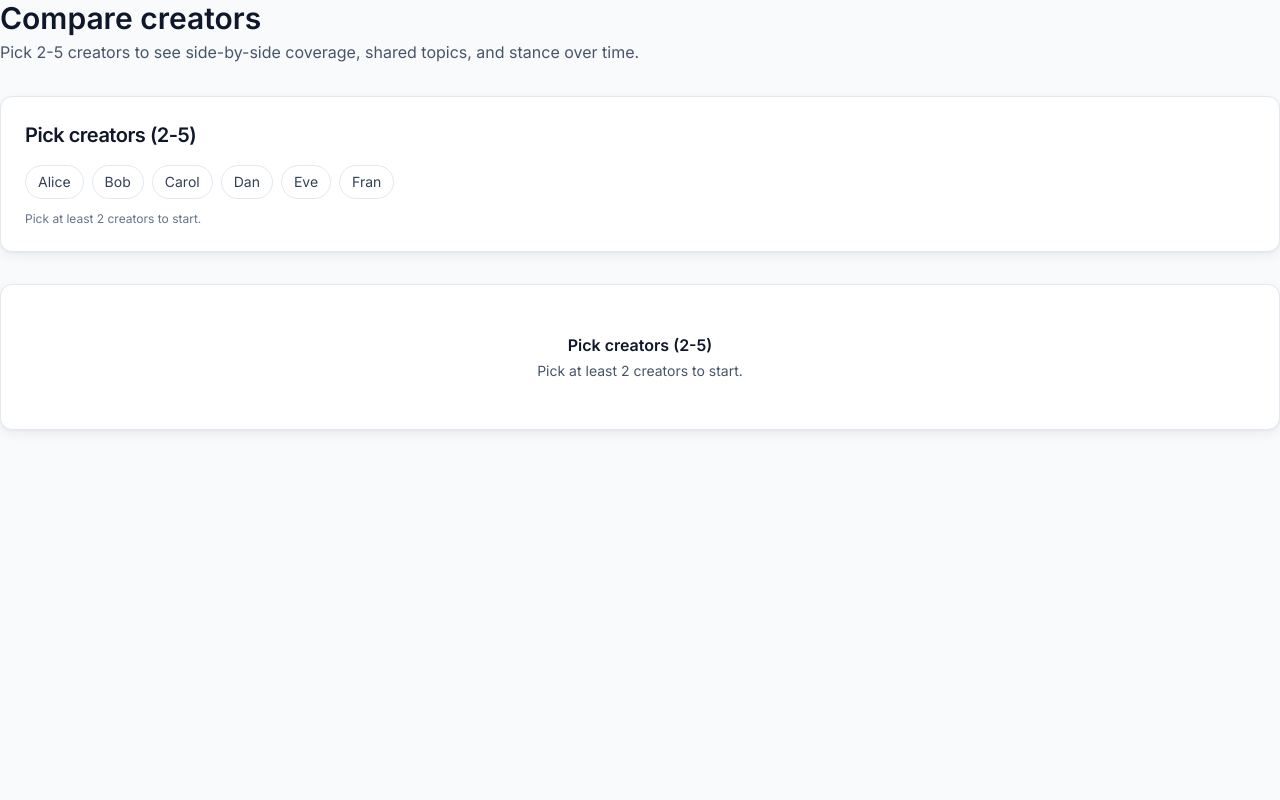
Test case: ComparePage › disables additional picks once 5 creators are selected
The width and height of the screenshot is (1280, 800).
Click the button "Alice": (54, 182) [25,165,84,199]
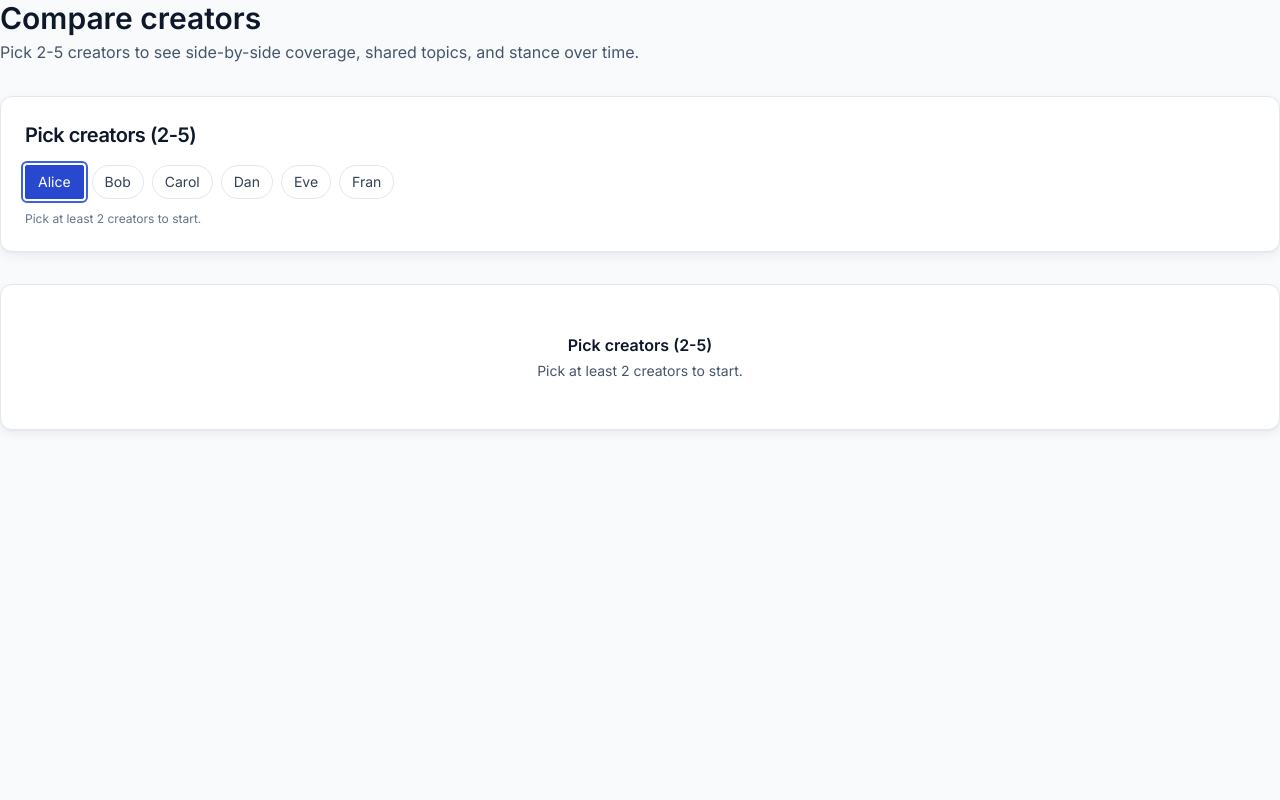
Click the button "Bob": (118, 182) [92,165,144,199]
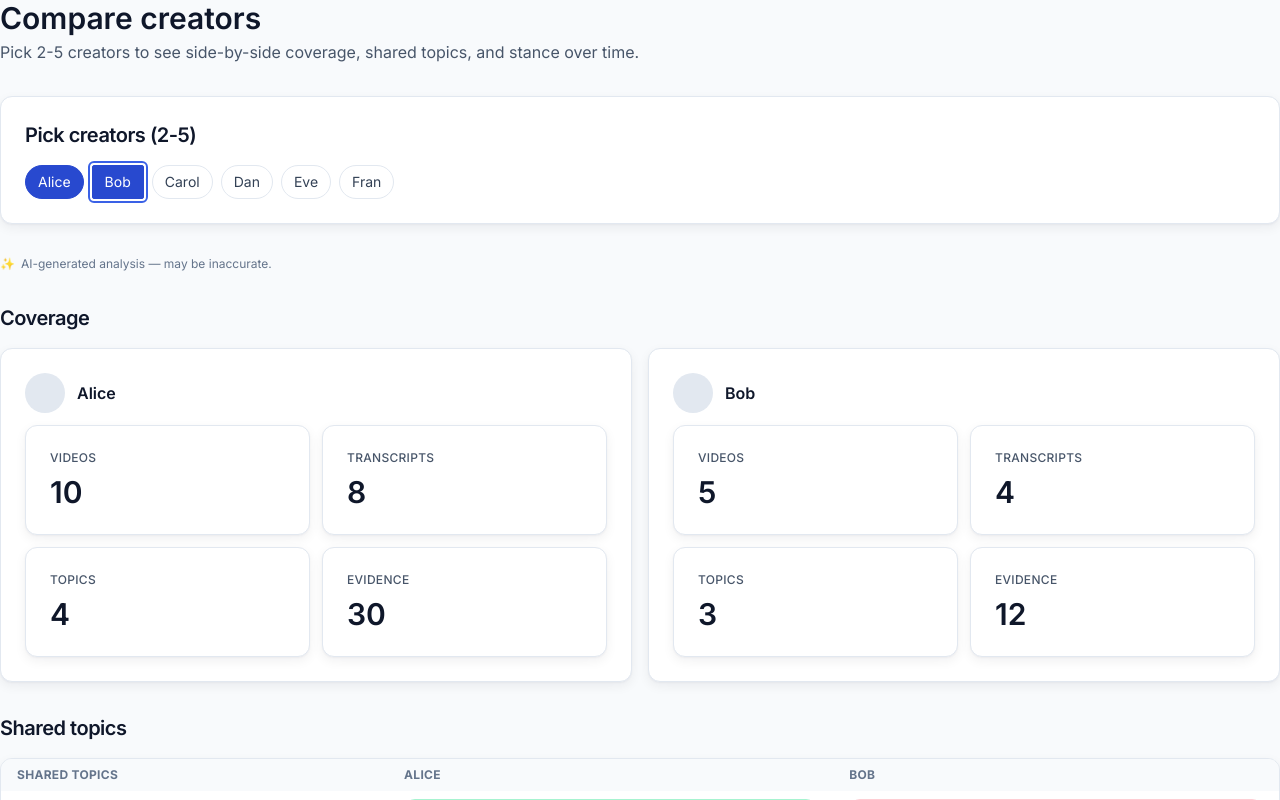
Click the button "Carol": (182, 182) [152,165,213,199]
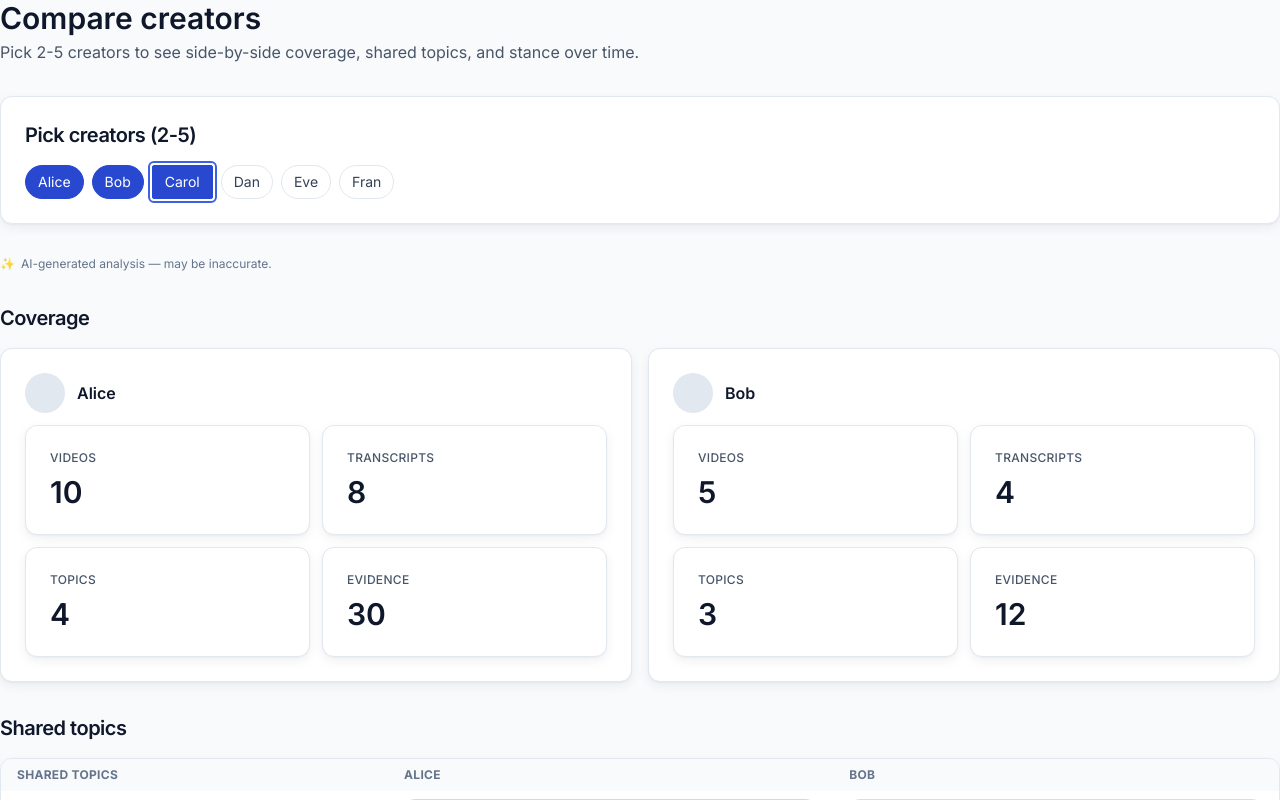
Click the button "Dan": (247, 182) [221,165,273,199]
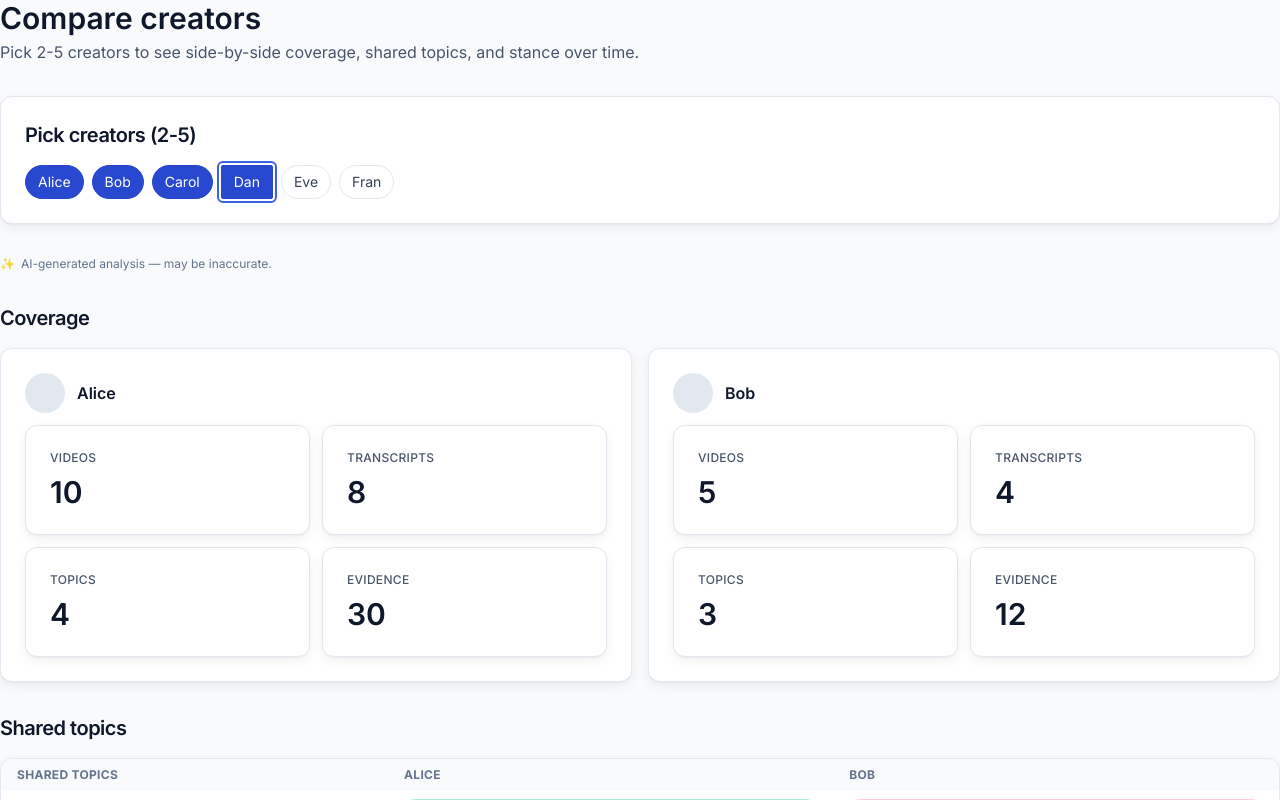
Click the button "Eve": (306, 182) [281,165,331,199]
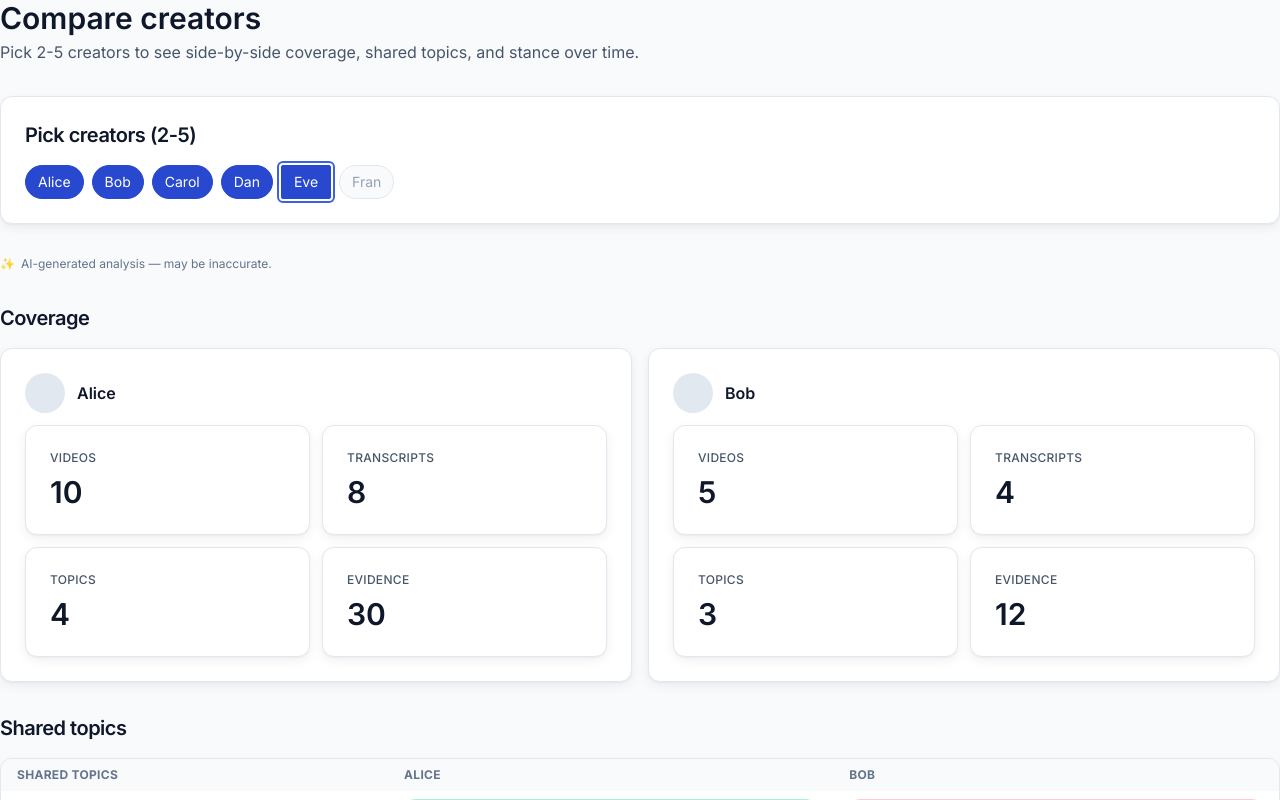
Expected: the button "Fran" is disabled, [339,165,394,199]
